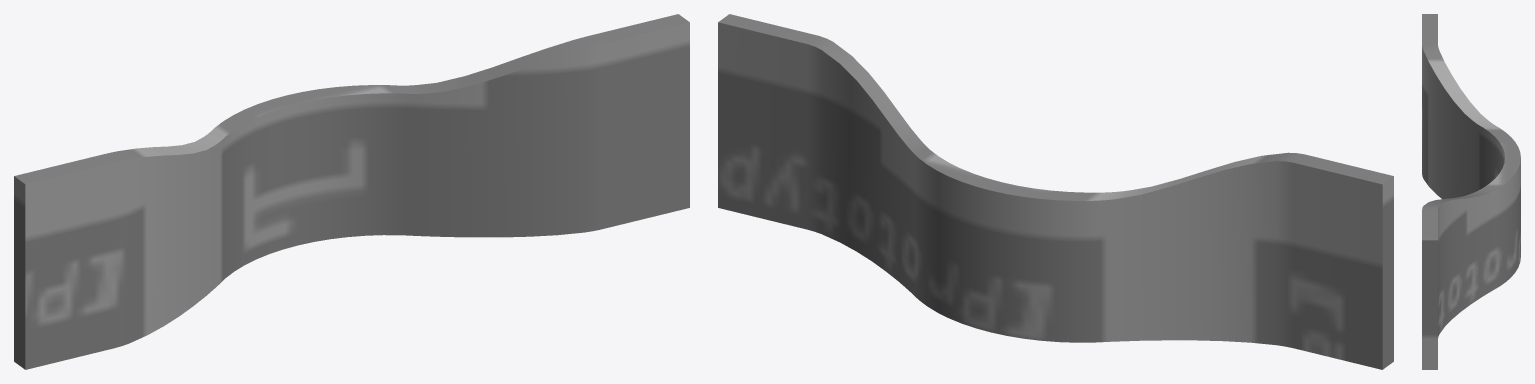
The model's file is wall_curve_MapB.fbx.
3 views of the same model, side by side, from view 1: azimuth 30°, elevation 25°; view 2: azimuth 150°, elevation 25°; view 3: azimuth 270°, elevation 25° (orthographic). The views are drawn at different scales.
Visible parts, largest first — view 1: wall_curve_MapB; view 2: wall_curve_MapB; view 3: wall_curve_MapB.
Boxes of the visible parts, left/top/right/bottom form: wall_curve_MapB: left=14, top=14, right=689, bottom=369; wall_curve_MapB: left=718, top=14, right=1393, bottom=369; wall_curve_MapB: left=1422, top=14, right=1520, bottom=369.
Size of the model in its own units: 8078 by 2156 by 1491.
